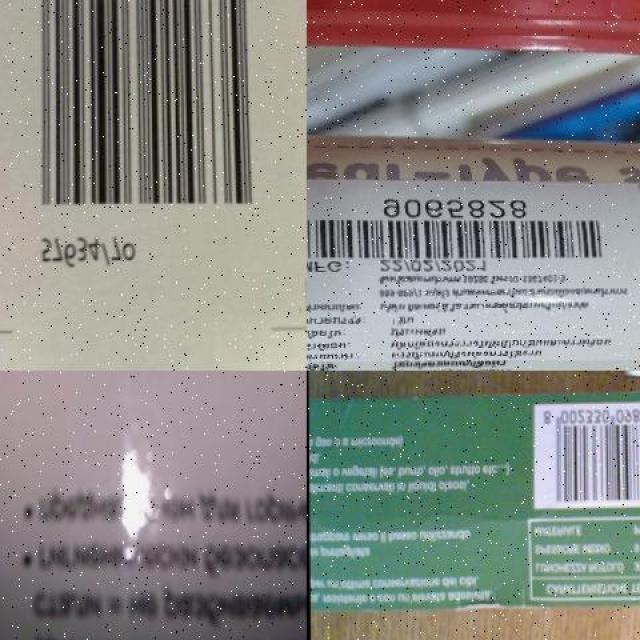Barcode: (0, 0, 297, 333), (307, 196, 617, 268), (532, 400, 640, 507)
